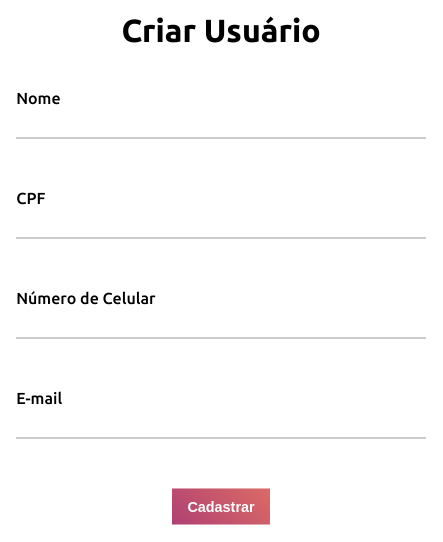
Test: CreateUserForm › shows error message when an invalid cpf is inputed
The image size is (443, 542).
Type "Edgar" into the field with id "name".
click(221, 122); type("Edgar")  # box [16,106,426,138]
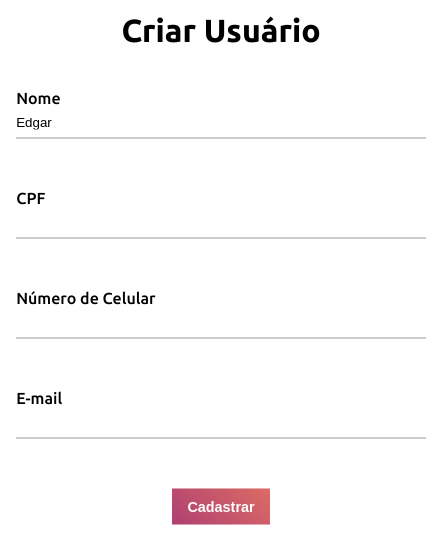
Type "C P EFE" into the field with id "cpf".
click(221, 222); type("C P EFE")  # box [16,206,426,238]
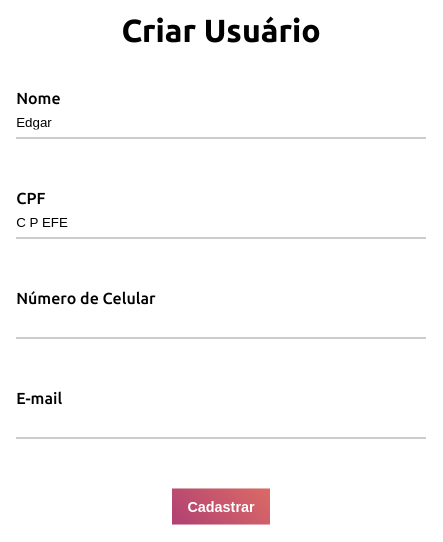
Type "(81) 9 9918-6187" into the field labelled "Número de Celular".
click(221, 322); type("(81) 9 9918-6187")  # box [16,306,426,338]
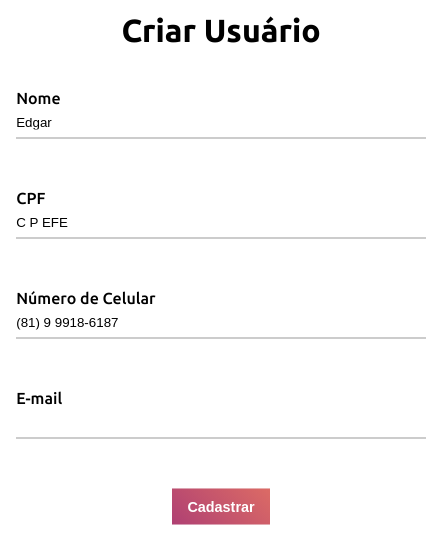
Type "edgarmarques.110@gmail.com" into the field with id "email".
click(221, 422); type("edgarmarques.110@gmail.com")  # box [16,406,426,438]
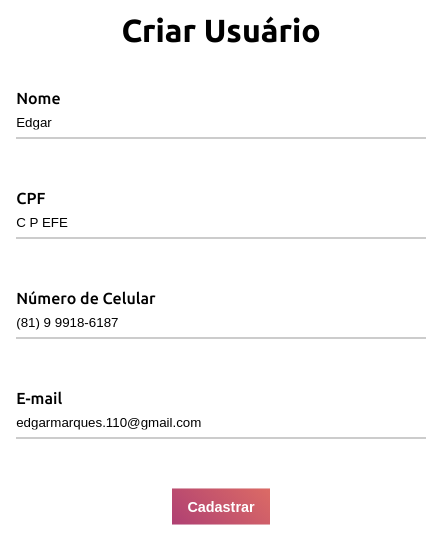
Submit the form
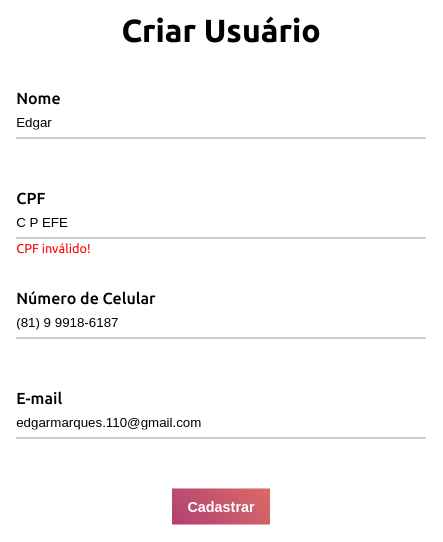
Expected: the text "CPF inválido!" is shown, [16,241,91,255]
